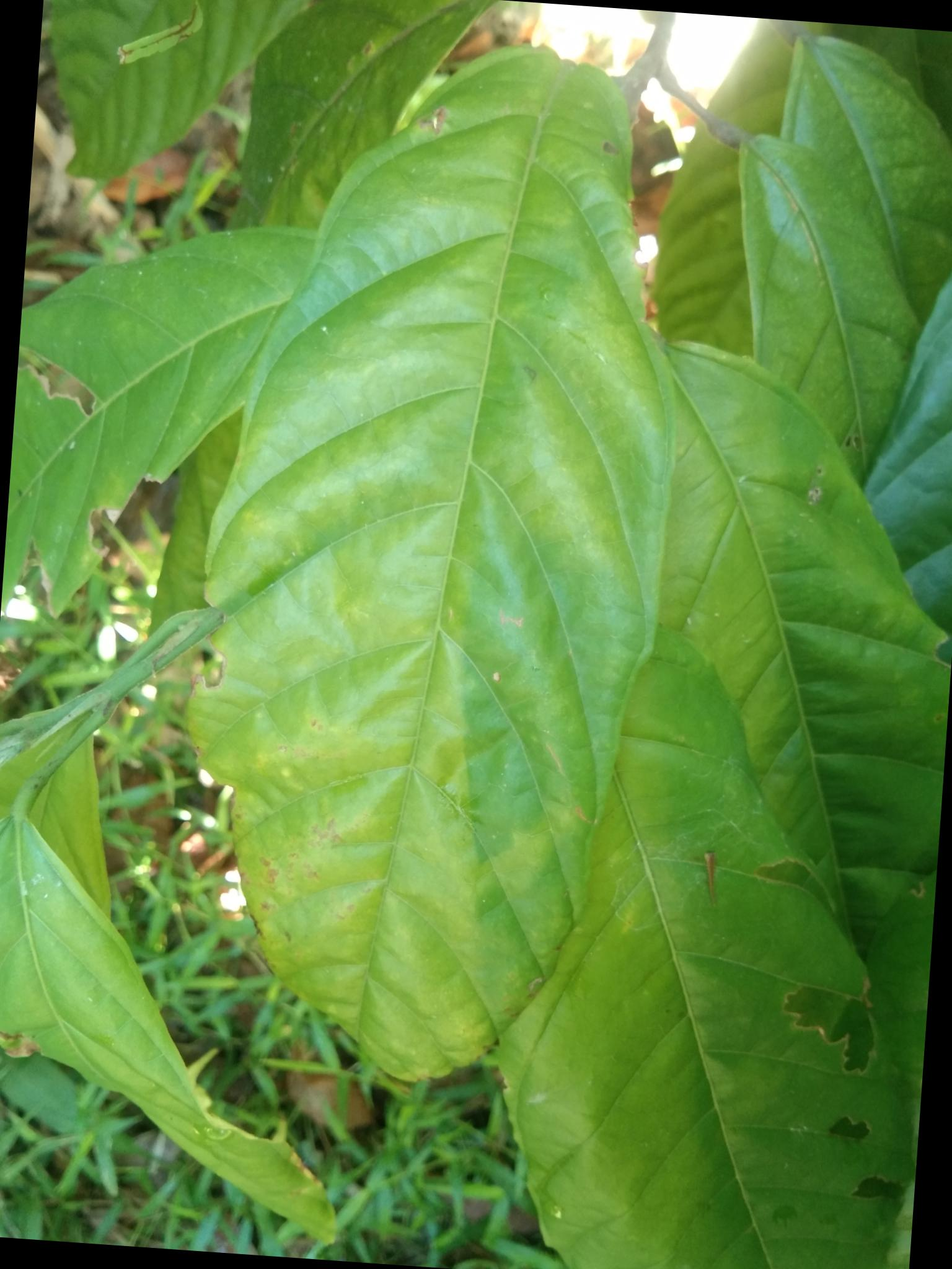Fosforo: (157, 31, 691, 1091)
